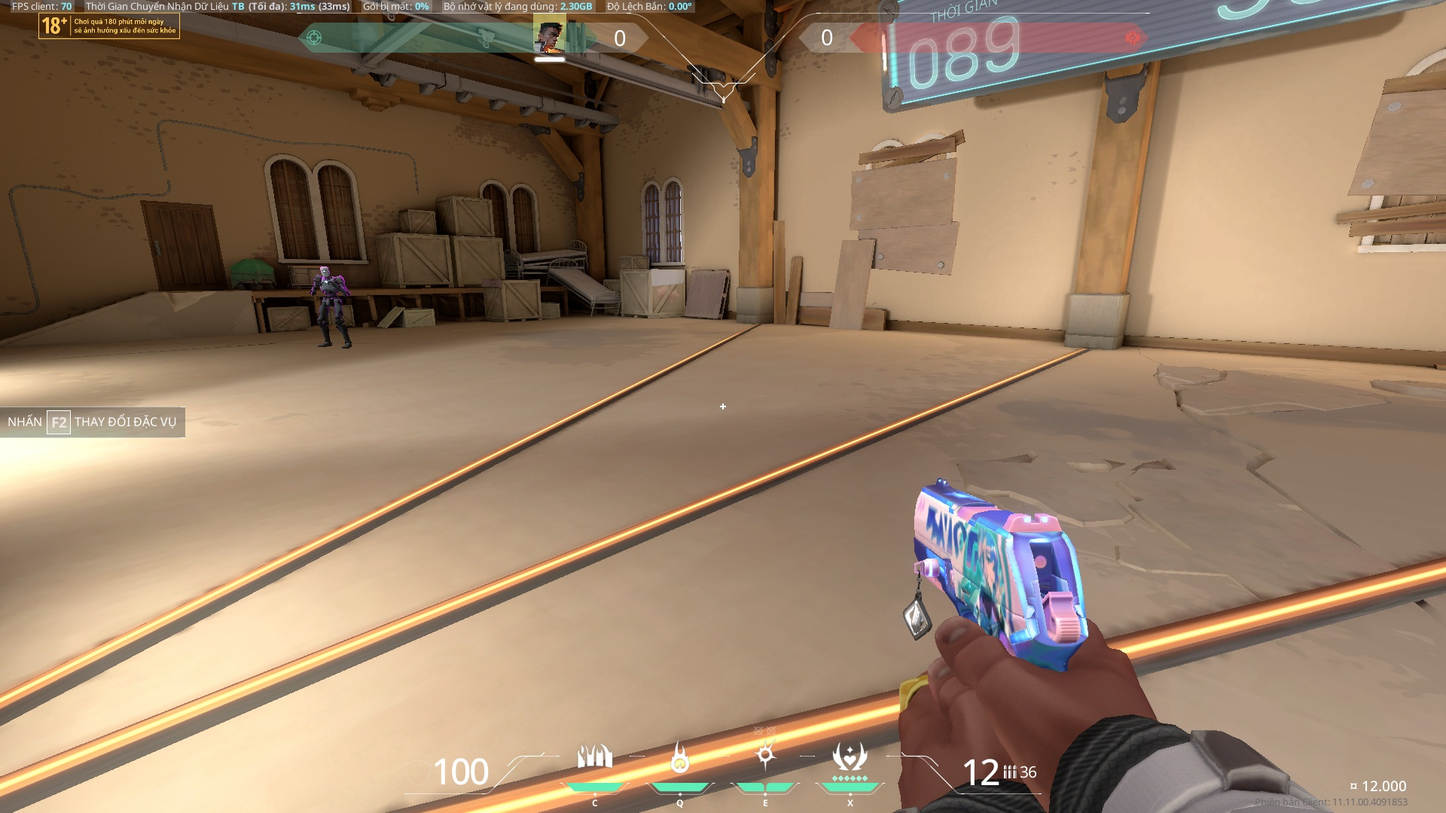body: (313, 272, 343, 302)
head: (317, 263, 330, 274)
